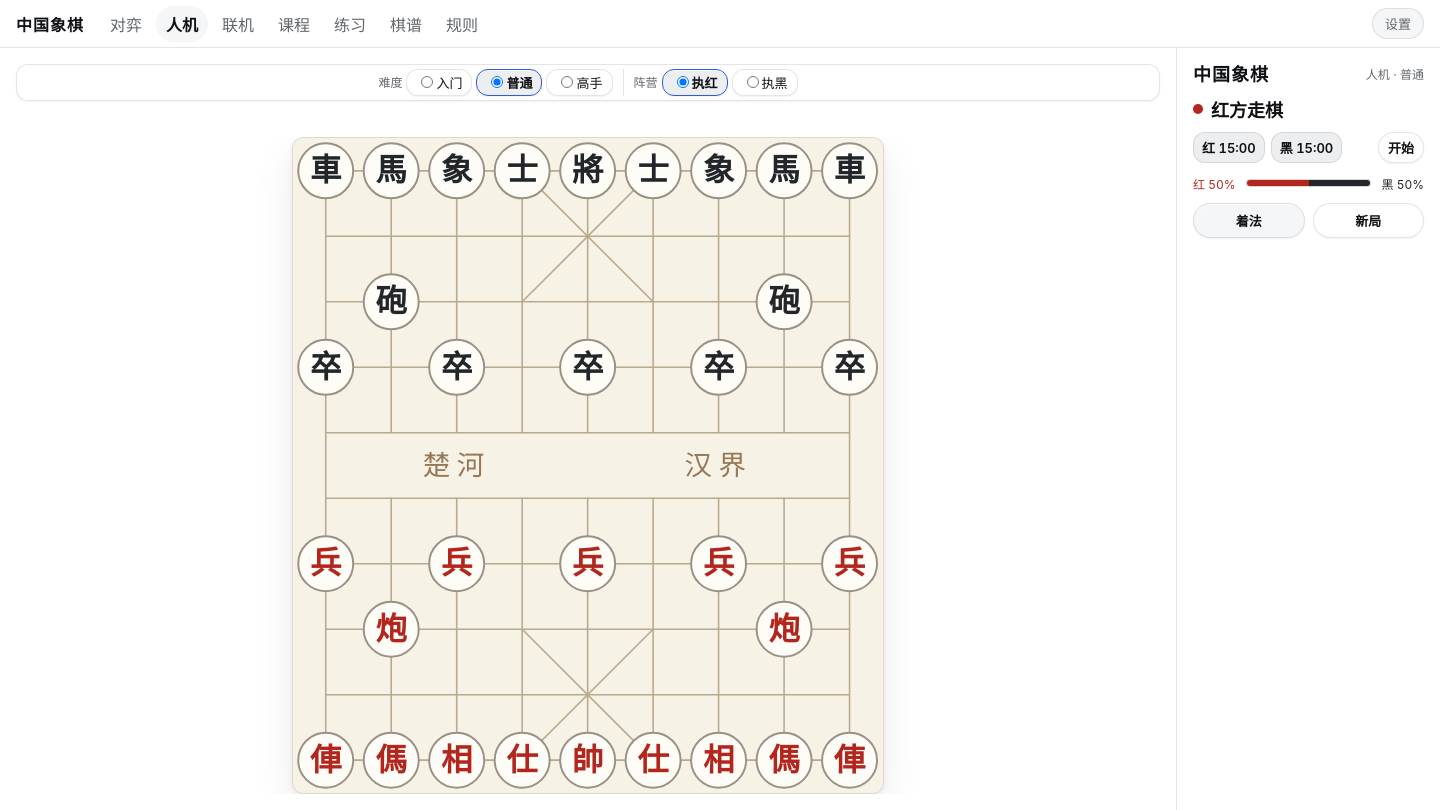
F1-10 人机页专注：难度与阵营收为一行摘要 › 未走子时两组控件都在页上，走一着后收成摘要，点摘要再展开
This screenshot has width=1440, height=810.
Expected: the element "难度" is shown, [378,69,612,96]
Expected: the element "阵营" is shown, [622,69,798,96]
Click the radio button labelled "高手" at (568, 82), box [562,76,574,88]
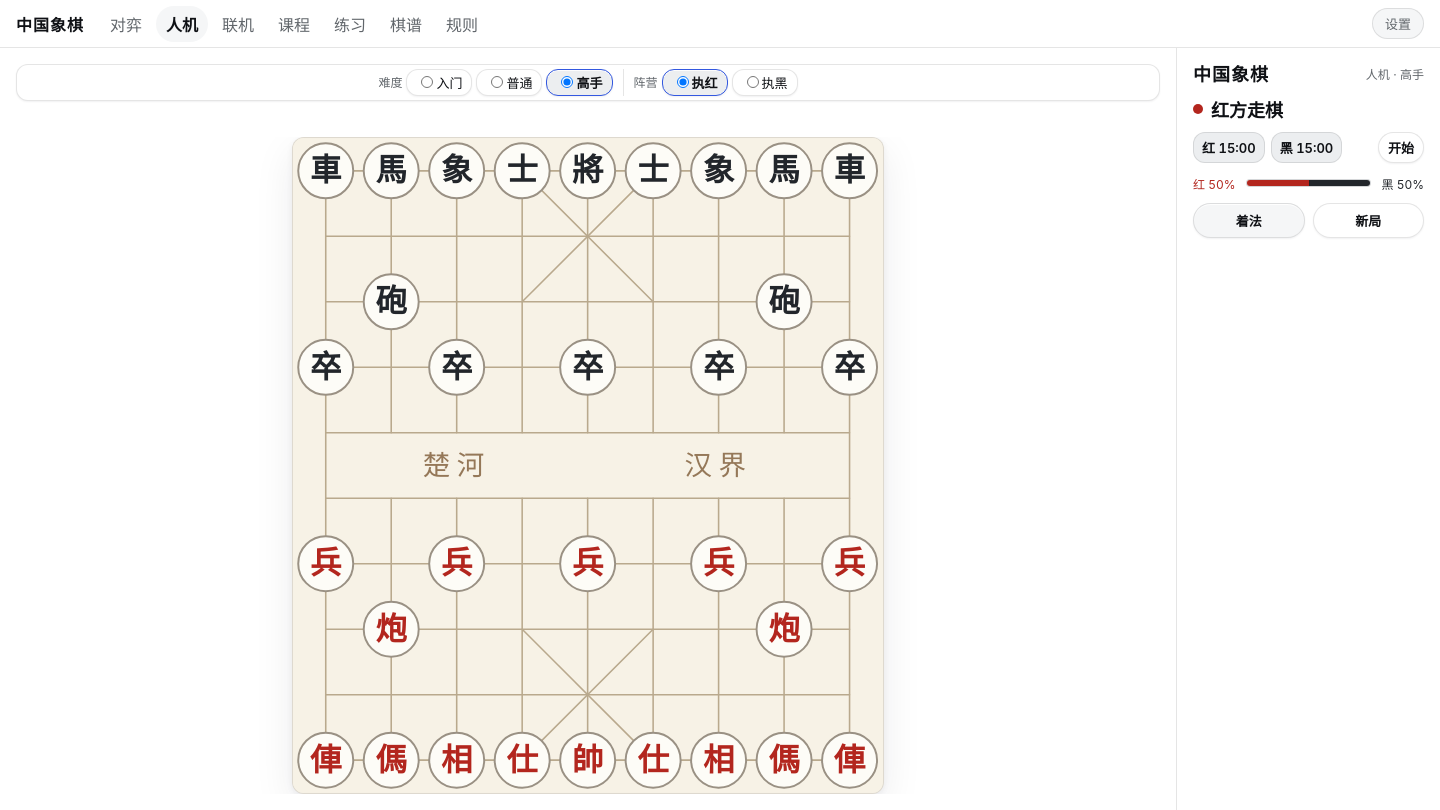
Press the mouse on the icon with class "board" at (588, 466), box [292,137,884,794]
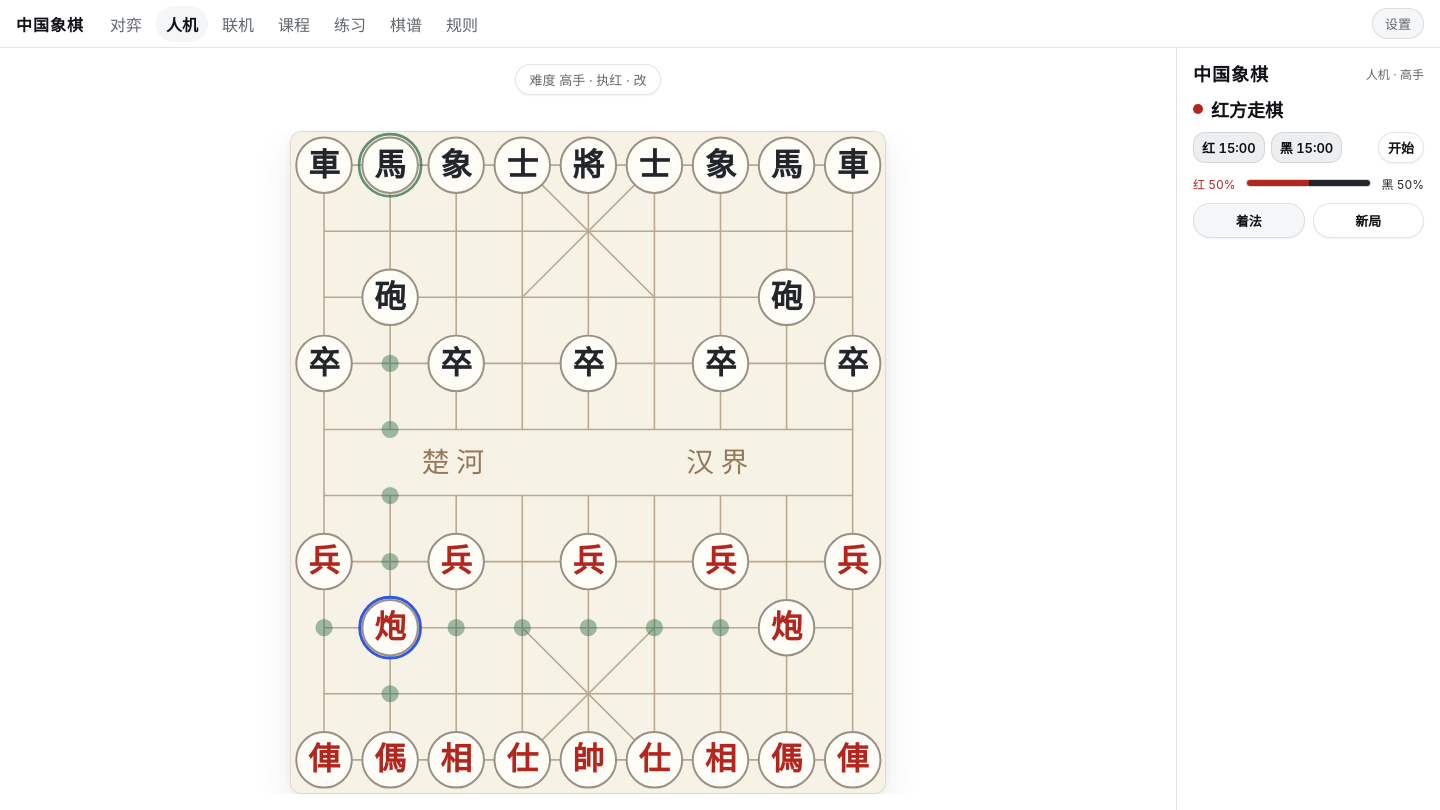
Press the mouse on the icon with class "board" at (588, 462), box [290,131,886,794]
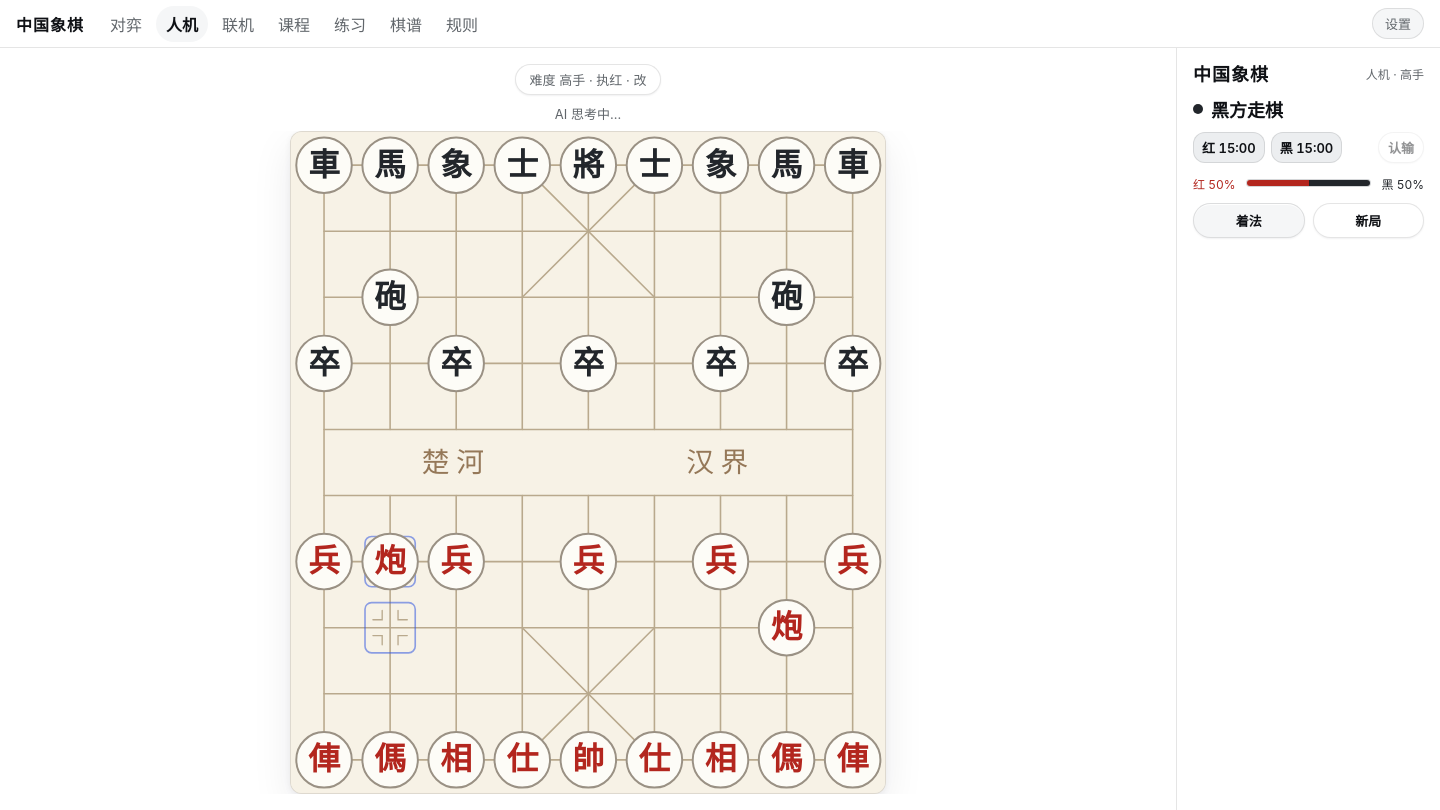
Expected: the text "阵营" is not shown
Expected: the button "难度 高手 · 执红 · 改" is shown
Click the button "难度 高手 · 执红 · 改" at (588, 80), box [515,64,661,95]
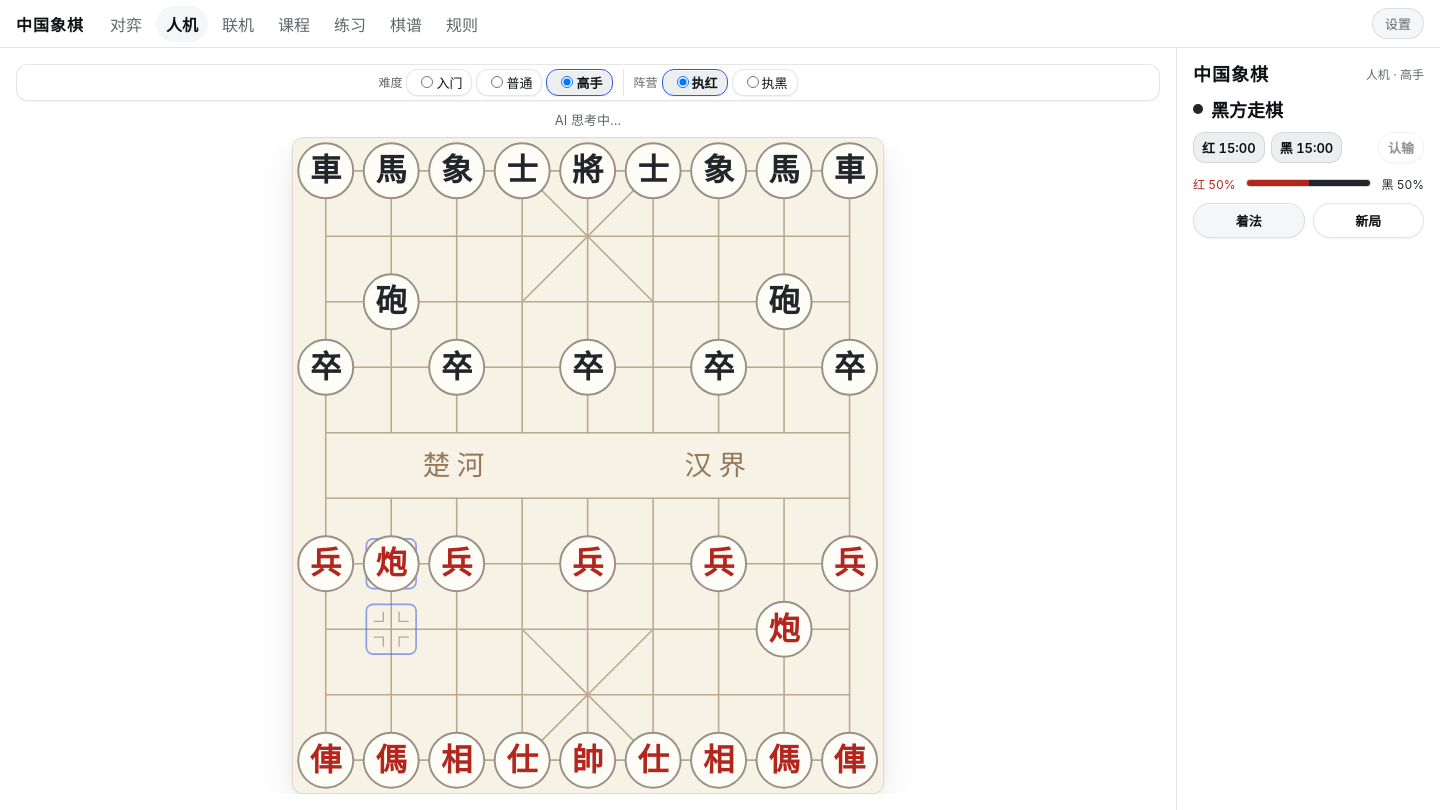
Expected: the element "难度" is shown, [378,69,612,96]
Expected: the element "阵营" is shown, [622,69,798,96]
Expected: the radio button labelled "高手" is checked, [562,76,574,88]
